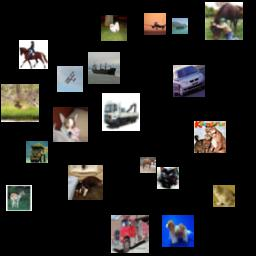airplane: (57, 66, 83, 92), (144, 13, 166, 35)
automobile: (173, 65, 205, 97)
cat: (194, 121, 226, 153), (157, 167, 179, 189)
deer: (1, 84, 39, 122), (6, 185, 32, 211)
dog: (68, 165, 103, 200), (53, 107, 88, 142), (162, 215, 194, 247), (101, 15, 127, 41)
frog: (213, 185, 235, 207)
ship: (88, 52, 120, 84), (172, 18, 188, 34)
truck: (111, 215, 149, 253), (102, 93, 140, 131), (26, 141, 48, 163)
